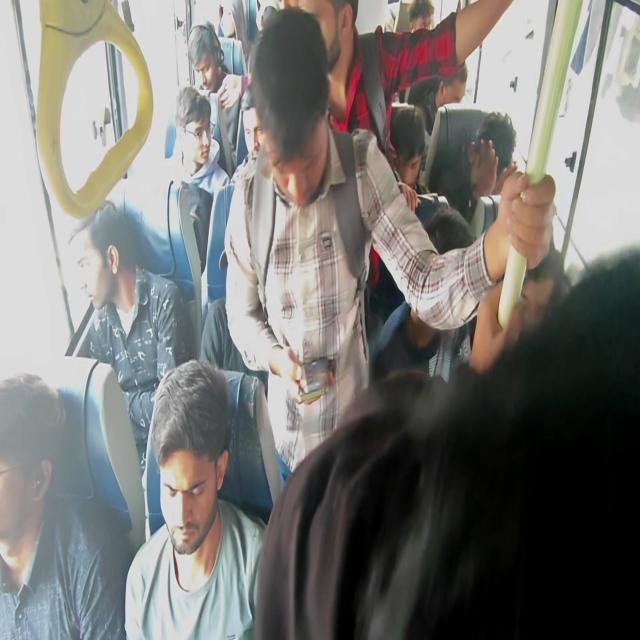person: (223, 4, 558, 484), (253, 244, 639, 638), (124, 358, 267, 638), (284, 0, 514, 164), (0, 372, 130, 639), (69, 199, 187, 475), (469, 241, 569, 374), (165, 85, 230, 275), (424, 109, 516, 235), (405, 0, 468, 136), (187, 21, 250, 109), (470, 110, 517, 196), (388, 102, 428, 195), (406, 0, 435, 34)
